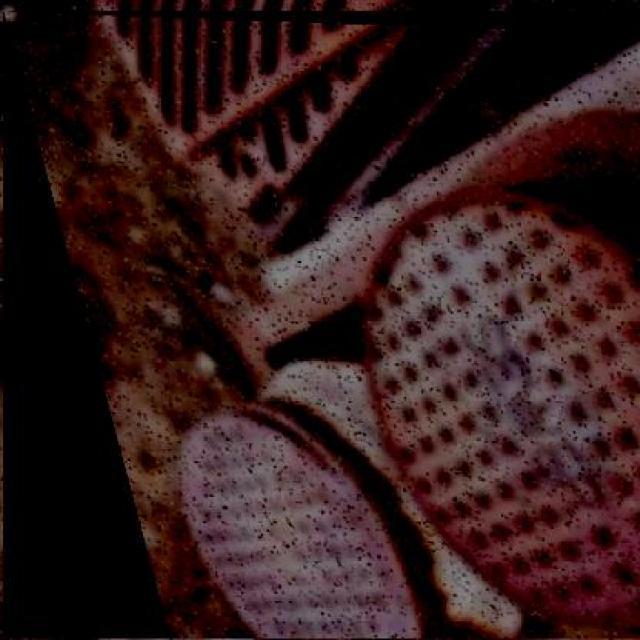Manhole: (378, 188, 640, 627), (128, 0, 410, 211), (165, 411, 408, 639)
